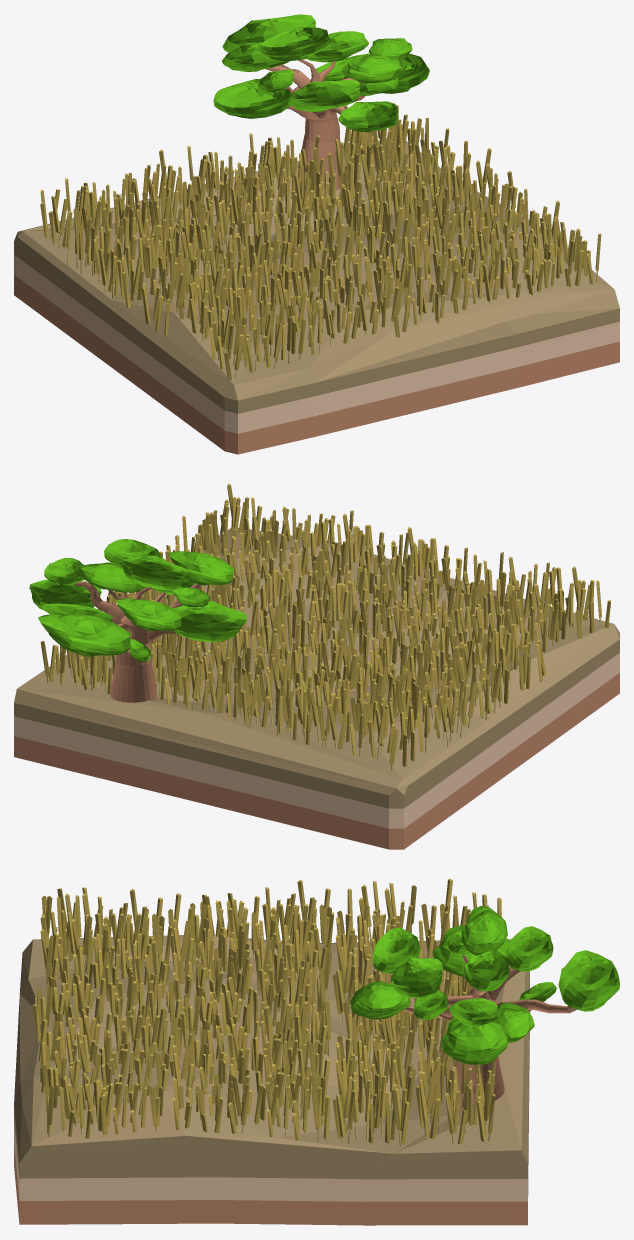
Rendered from 4_Savanna.fbx.
The picture shows the model from 3 angles, top to bottom: view 1: azimuth 30°, elevation 25°; view 2: azimuth 150°, elevation 25°; view 3: azimuth 270°, elevation 25°; orthographic projection. The views are drawn at different scales.
Parts seen in each view (by area): view 1: Object020; view 2: Object020; view 3: Object020.
Boxes of the visible parts, x1,y1,x2,y2 form: Object020: (14,14,619,454); Object020: (14,483,619,849); Object020: (14,878,619,1225).
Bounding box in the file's own units: 0.9128 × 0.4711 × 1.07.
